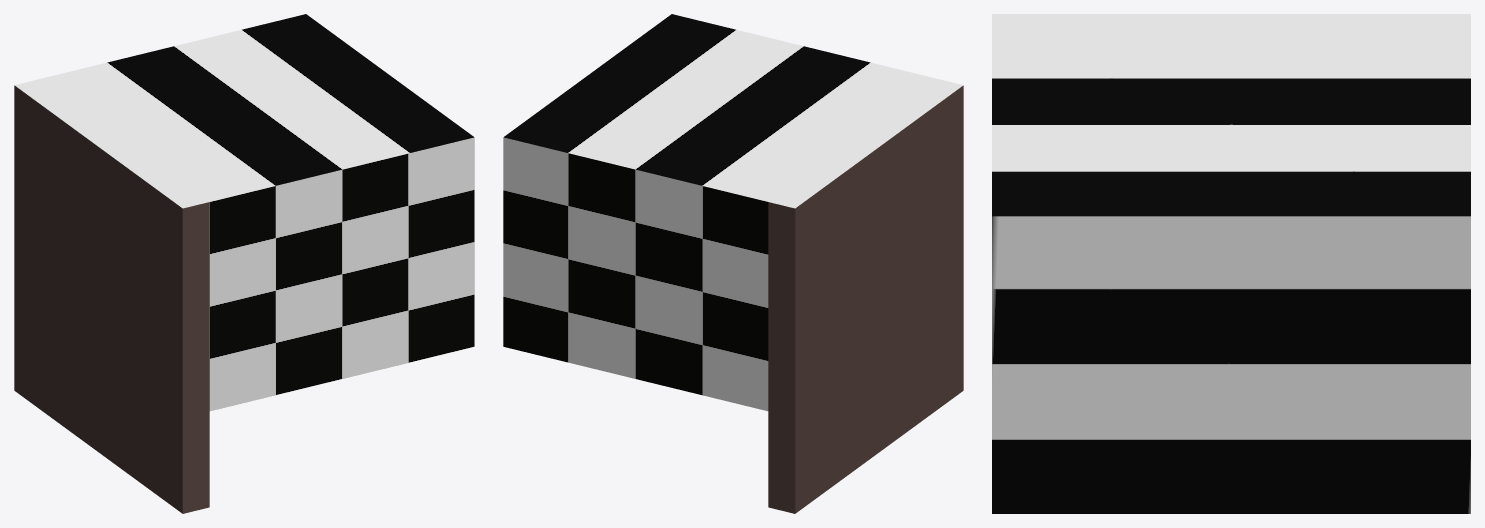
File: checkerflag.glb
3 renders of one model, left to right at view 1: azimuth 30°, elevation 25°; view 2: azimuth 150°, elevation 25°; view 3: azimuth 270°, elevation 25°, orthographic. The views are drawn at different scales.
Visible parts, largest first — view 1: Cube; view 2: Cube; view 3: Cube.
Boxes of the visible parts, x1,y1,x2,y2 form: Cube: (14, 14, 474, 513); Cube: (503, 14, 963, 513); Cube: (992, 14, 1470, 513).
Bounding box in the file's own units: 1 × 1 × 1.
2 materials, 1 textured.
